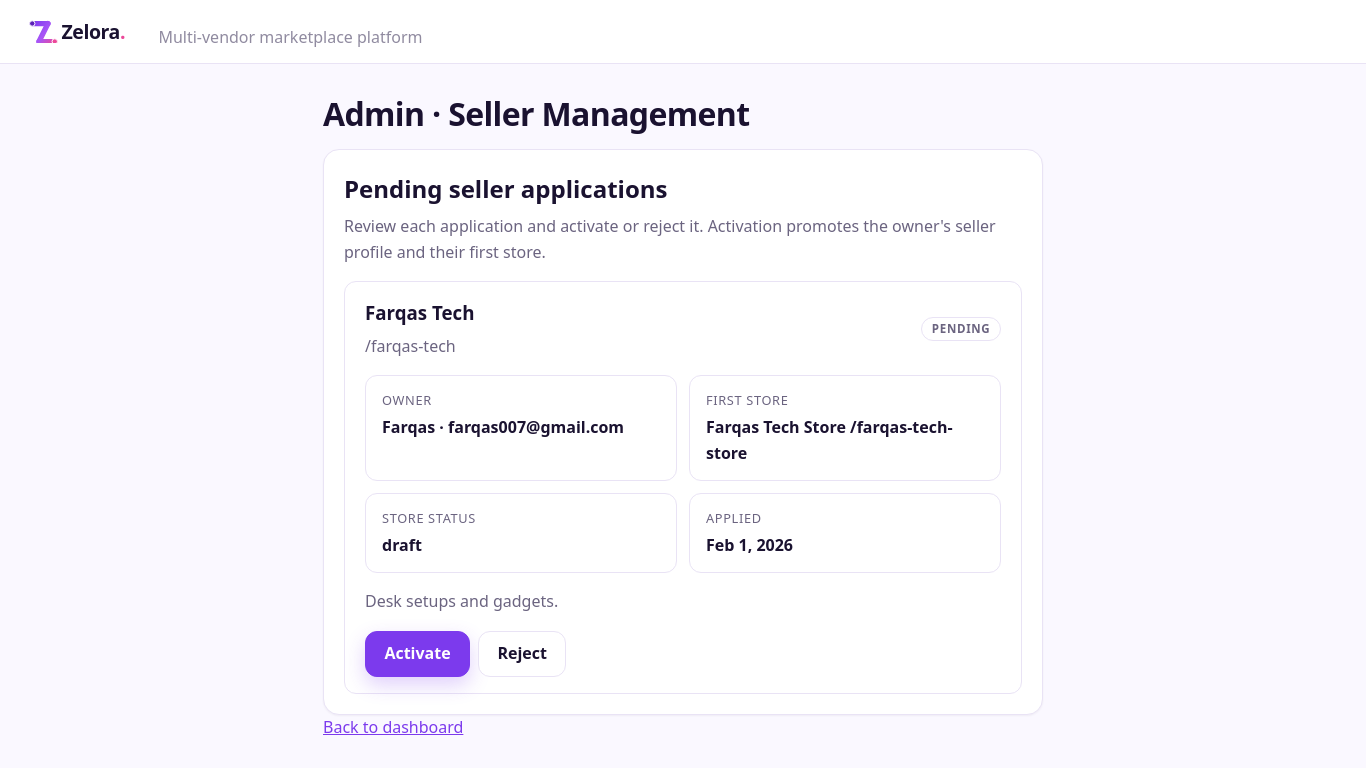
Test case: AdminSellersPage › activating a seller › confirms the activation
Click the button with aria-label "Activate Farqas Tech" at (418, 654), box 365,631 -> 470,677
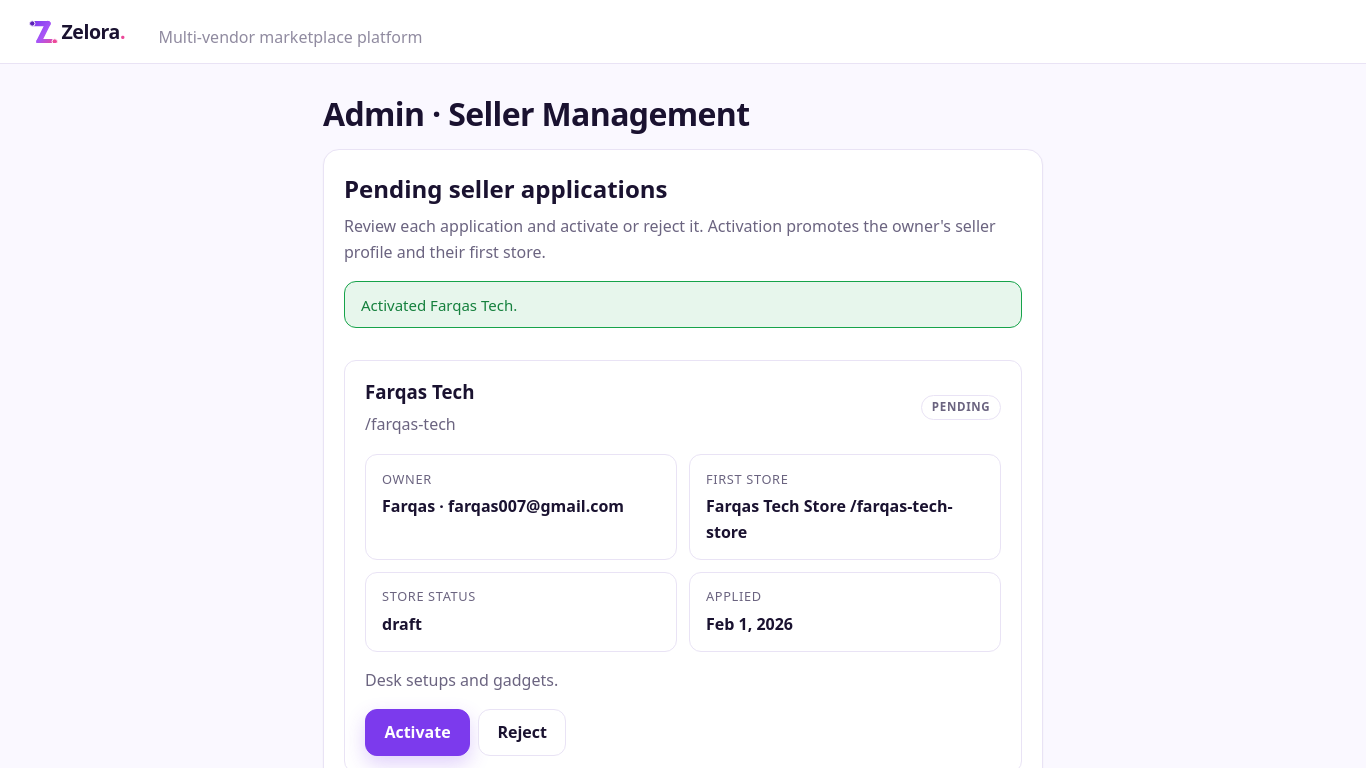
Expected: the text "Activated Farqas Tech." is shown, 344,281 -> 1022,328
